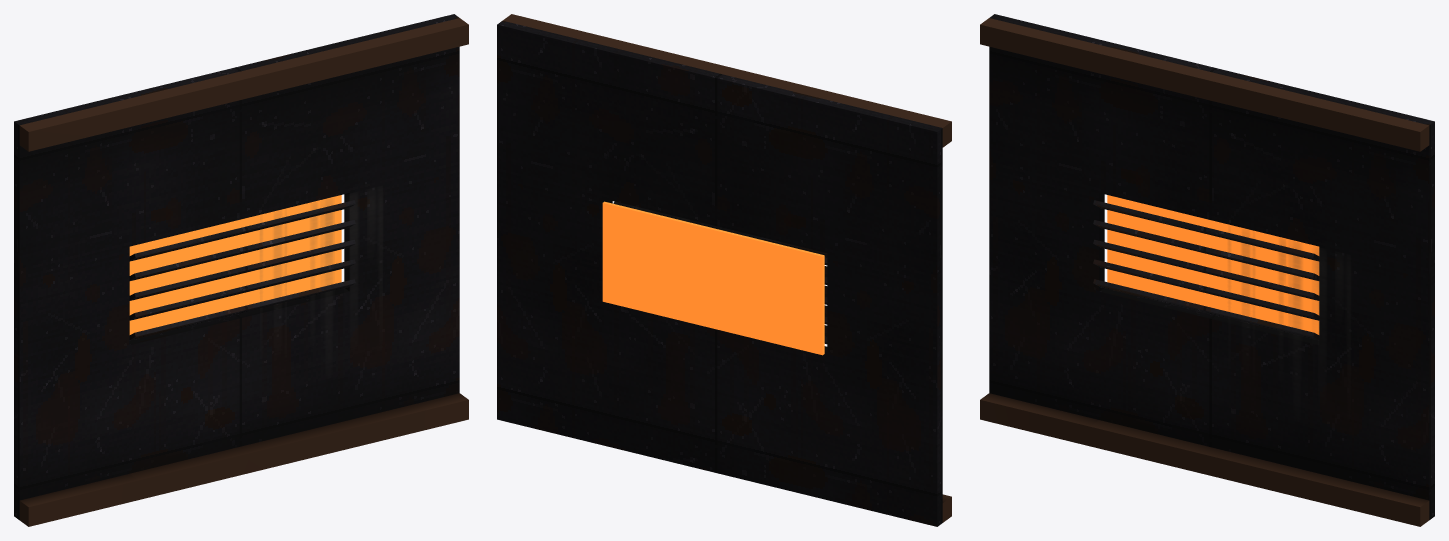
Rendered from duct_cap.glb.
3 views of the same model, side by side, from view 1: azimuth 30°, elevation 25°; view 2: azimuth 150°, elevation 25°; view 3: azimuth 330°, elevation 25° (orthographic).
Parts seen in each view (by area): view 1: body, decals; view 2: body; view 3: body, decals.
Boxes of the visible parts, x1,y1,x2,y2 form: body: (14,14,468,526); decals: (274,196,382,301); body: (497,14,951,526); body: (980,14,1434,526); decals: (1242,236,1350,344).
Size of what is drawn, in the model's own units: 1.4 by 1.2 by 0.105.
5 materials, 3 textured.
